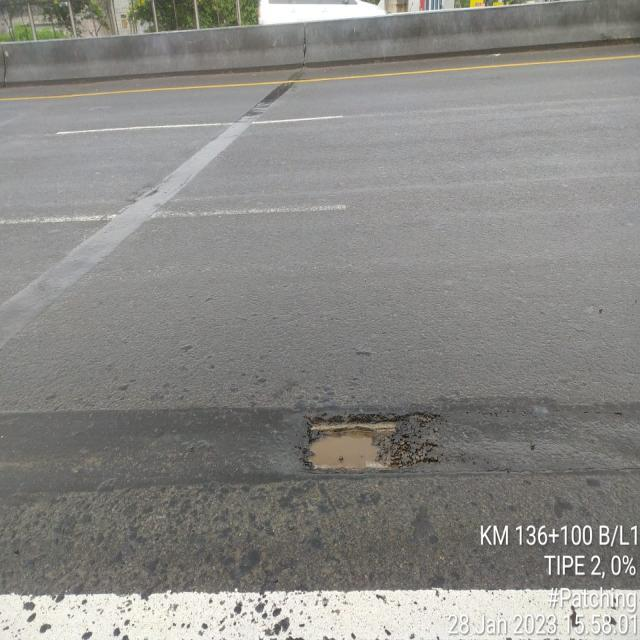Buraco: (296, 408, 445, 478)
